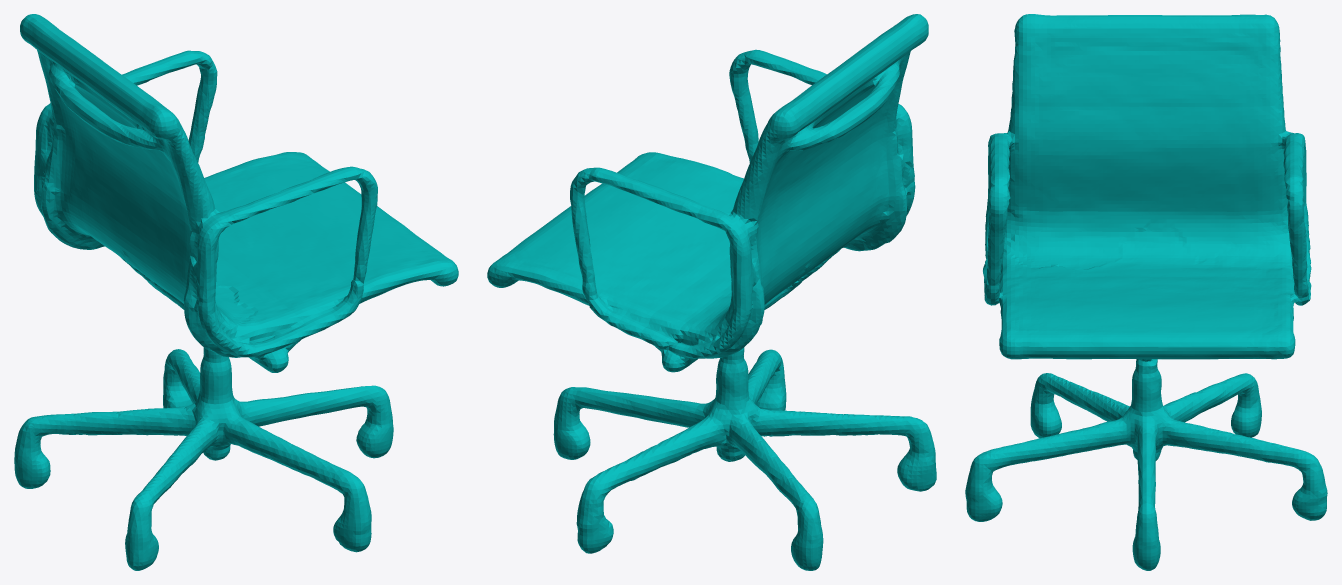
3 renders of one model, left to right at view 1: azimuth 30°, elevation 25°; view 2: azimuth 150°, elevation 25°; view 3: azimuth 270°, elevation 25°, orthographic. The views are drawn at different scales.
Bounding box in the file's own units: 0.7432 × 1.03 × 0.7862.
